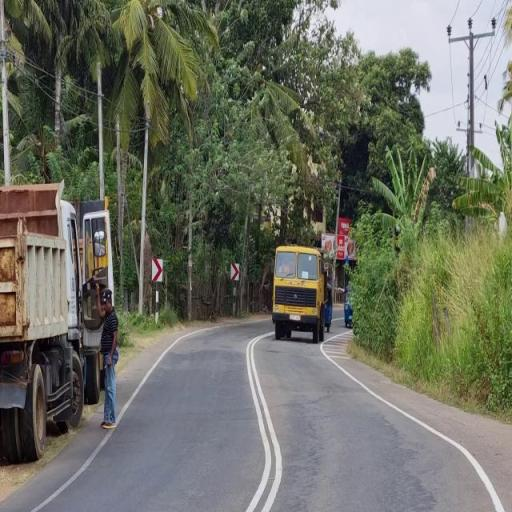double_white_line: (242, 330, 284, 512)
